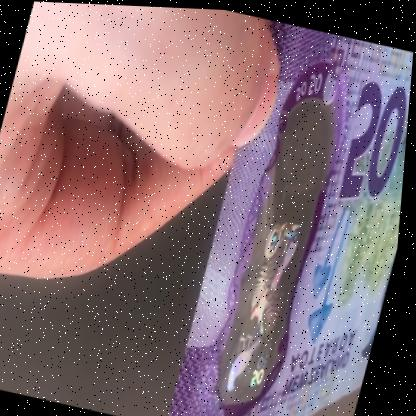50B: (221, 117, 336, 405)
